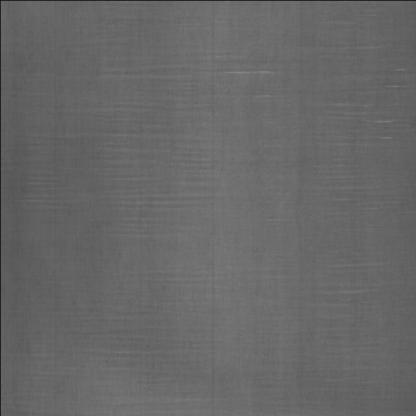waist_folding: (61, 103, 412, 394)
